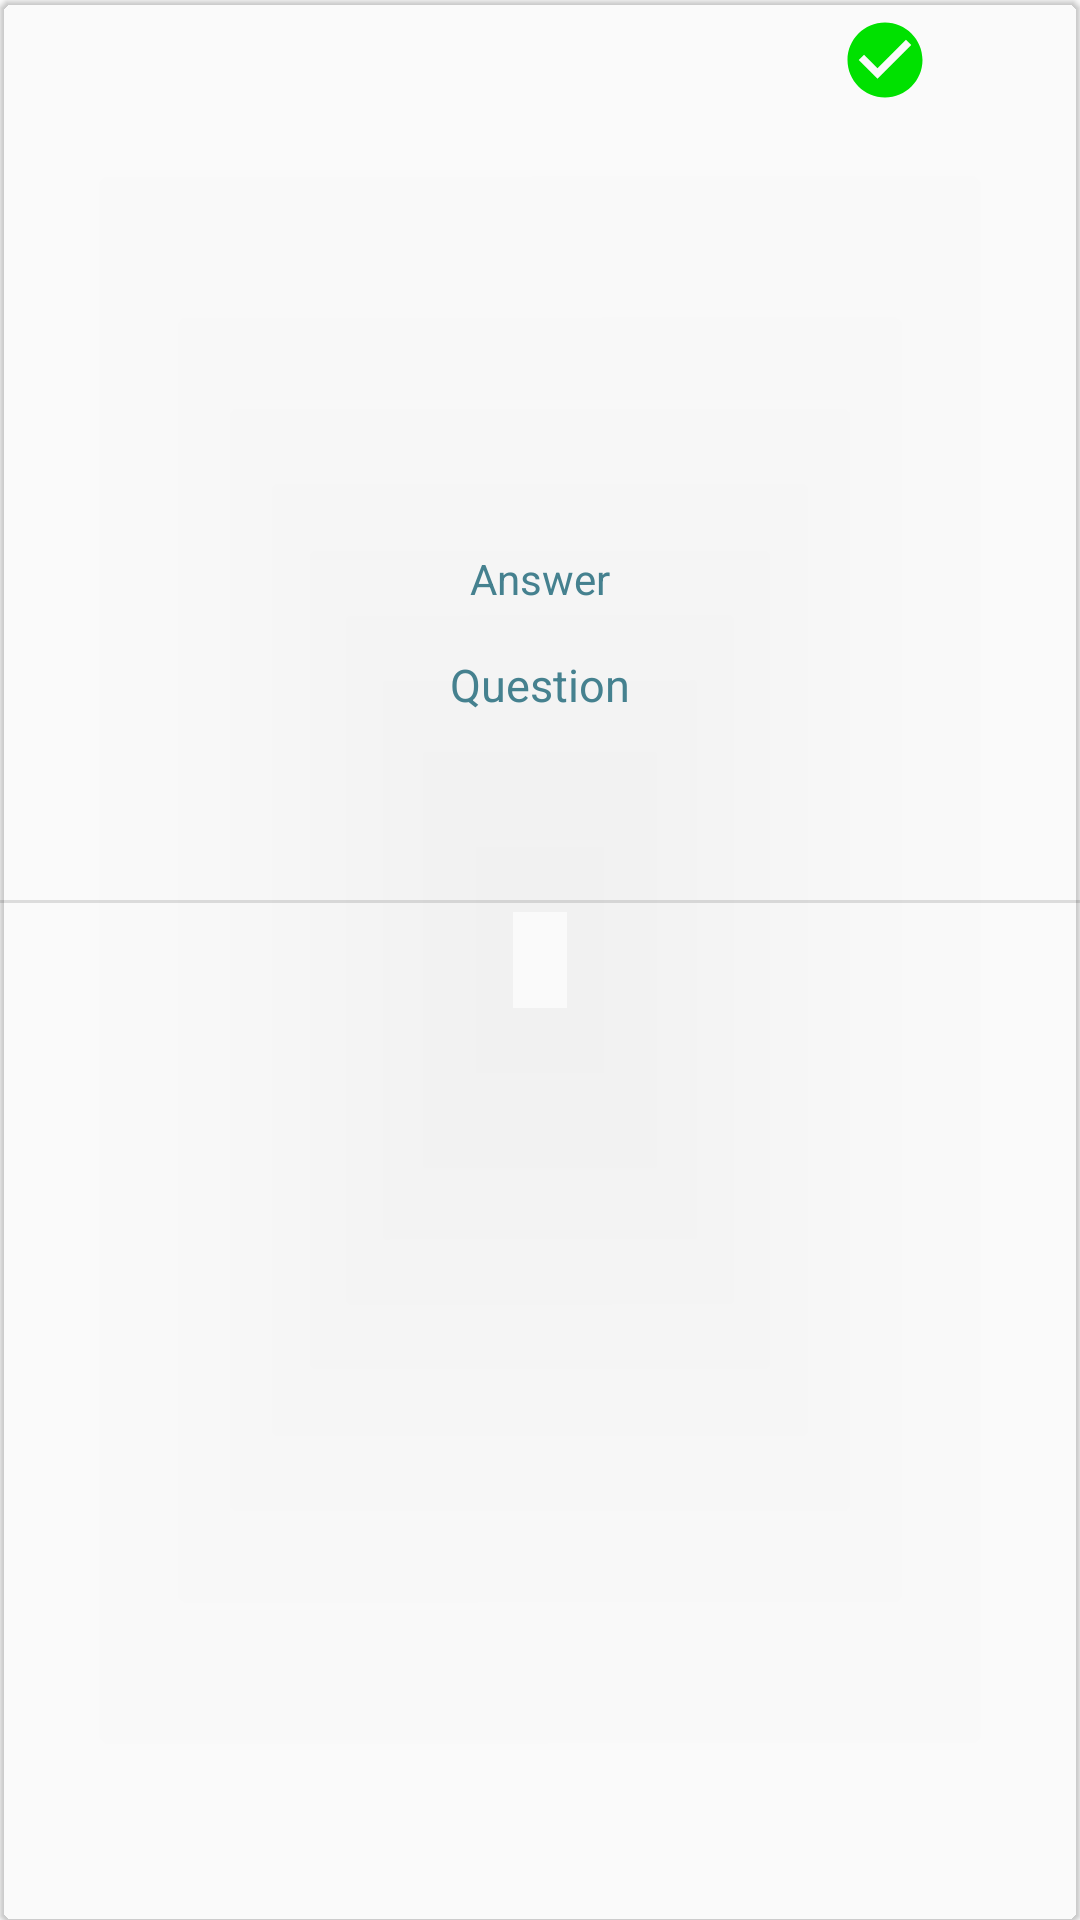

Where icons sit on this 1080×1920 app screen, as (x1, y1, x2, y2):
check circle: (847, 22, 923, 98)
